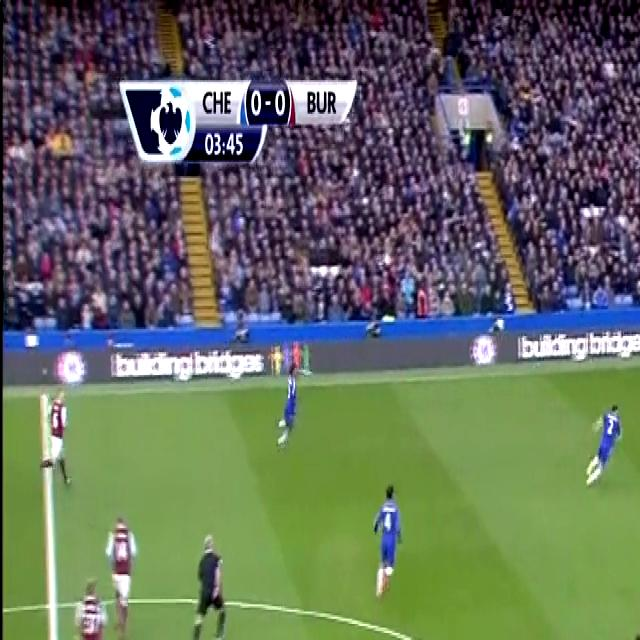referee: (189, 524, 228, 640)
soccer-player: (97, 500, 142, 638), (366, 474, 412, 597), (38, 379, 76, 500), (584, 395, 626, 498), (66, 569, 118, 640), (274, 353, 304, 452), (604, 626, 640, 640)
